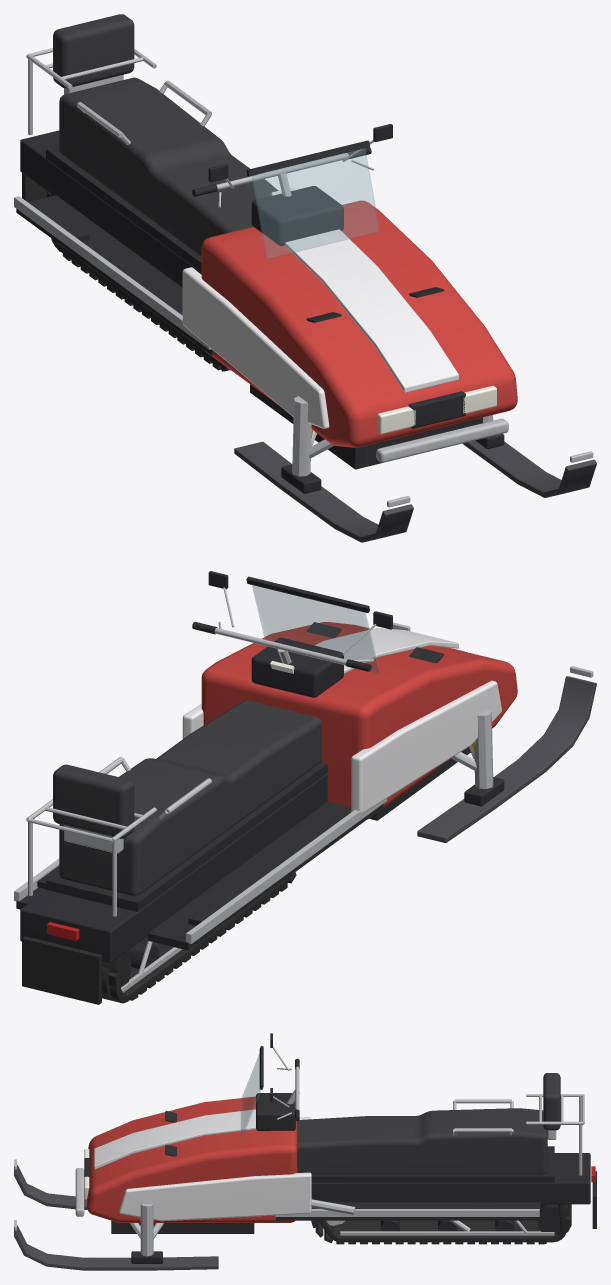
File: KOTM_Snowmobile.glb
The picture shows the model from 3 angles, top to bottom: view 1: azimuth 30°, elevation 25°; view 2: azimuth 150°, elevation 25°; view 3: azimuth 270°, elevation 25°; orthographic projection. The views are drawn at different scales.
Parts seen in each view (by area): view 1: Hood, Seat, HoodStripe, Windshield, SidePanel.001, Tunnel, Backrest, Ski.001, RunningBoard.001, Console, Ski, BoardRail.001 (+10 smaller); view 2: Seat, Hood, Tunnel, SidePanel.001, Ski.001, RunningBoard.001, Windshield, Backrest, SeatBase, SnowFlap, Console, BoardRail.001 (+9 smaller); view 3: Seat, Hood, SidePanel, Tunnel, TrackBelt, HoodStripe, Ski, SeatBase, RunningBoard, BoardRail, Console, BellyPan (+9 smaller).
Part boxes in pixels (x1,y1,x2,y2): Hood: [201, 200, 517, 447]; Seat: [59, 77, 278, 256]; HoodStripe: [285, 229, 458, 392]; Windshield: [252, 148, 379, 258]; SidePanel.001: [182, 267, 329, 428]; Tunnel: [20, 130, 201, 287]; Backrest: [53, 14, 134, 88]; Ski.001: [234, 441, 413, 542]; RunningBoard.001: [16, 195, 213, 355]; Console: [251, 186, 343, 245]; Ski: [462, 440, 596, 497]; BoardRail.001: [14, 196, 211, 349]; Seat: [59, 700, 321, 895]; Hood: [201, 622, 517, 819]; Tunnel: [20, 773, 327, 962]; SidePanel.001: [351, 680, 501, 814]; Ski.001: [417, 676, 596, 842]; RunningBoard.001: [148, 802, 383, 950]; Windshield: [252, 584, 379, 673]; Backrest: [53, 764, 134, 838]; SeatBase: [46, 762, 327, 911]; SnowFlap: [22, 936, 101, 1004]; Console: [251, 637, 343, 697]; BoardRail.001: [186, 798, 386, 943]; Seat: [297, 1108, 547, 1174]; Hood: [87, 1096, 297, 1222]; SidePanel: [119, 1172, 311, 1221]; Tunnel: [311, 1153, 590, 1204]; TrackBelt: [318, 1204, 566, 1242]; HoodStripe: [94, 1109, 255, 1169]; Ski: [14, 1225, 218, 1270]; SeatBase: [311, 1146, 554, 1182]; RunningBoard: [276, 1202, 540, 1220]; BoardRail: [275, 1209, 539, 1216]; Console: [256, 1093, 295, 1130]; BellyPan: [111, 1221, 254, 1233].
Bounding box in the file's own units: 1.04 × 1.21 × 3.67.
